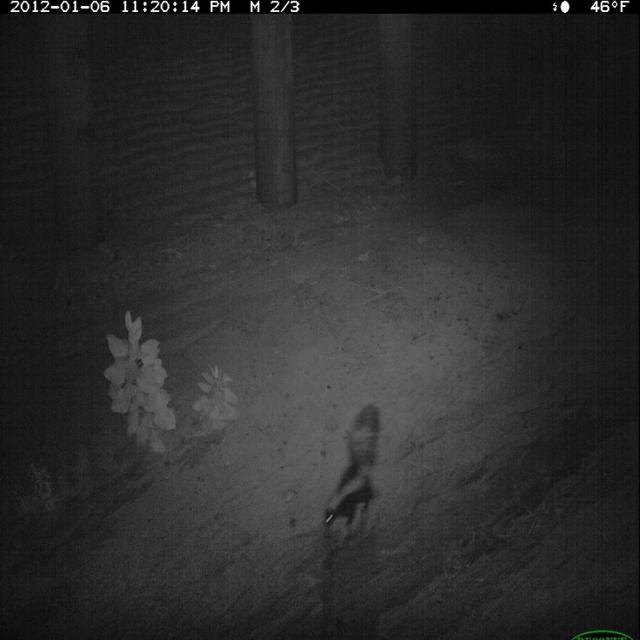skunk: (318, 397, 386, 545)
